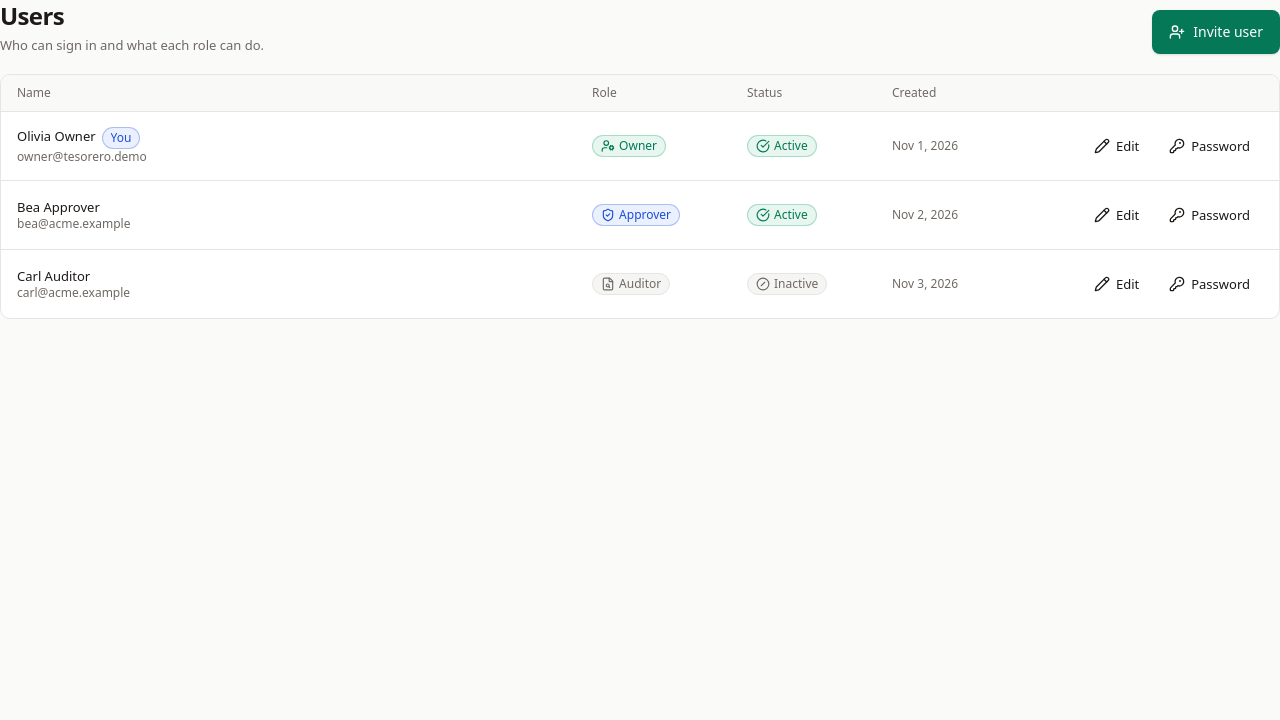
Test case: users admin › edits role and active state
Click the button with test id "edit-user-button" at (1117, 215), box [1081,193,1152,237]
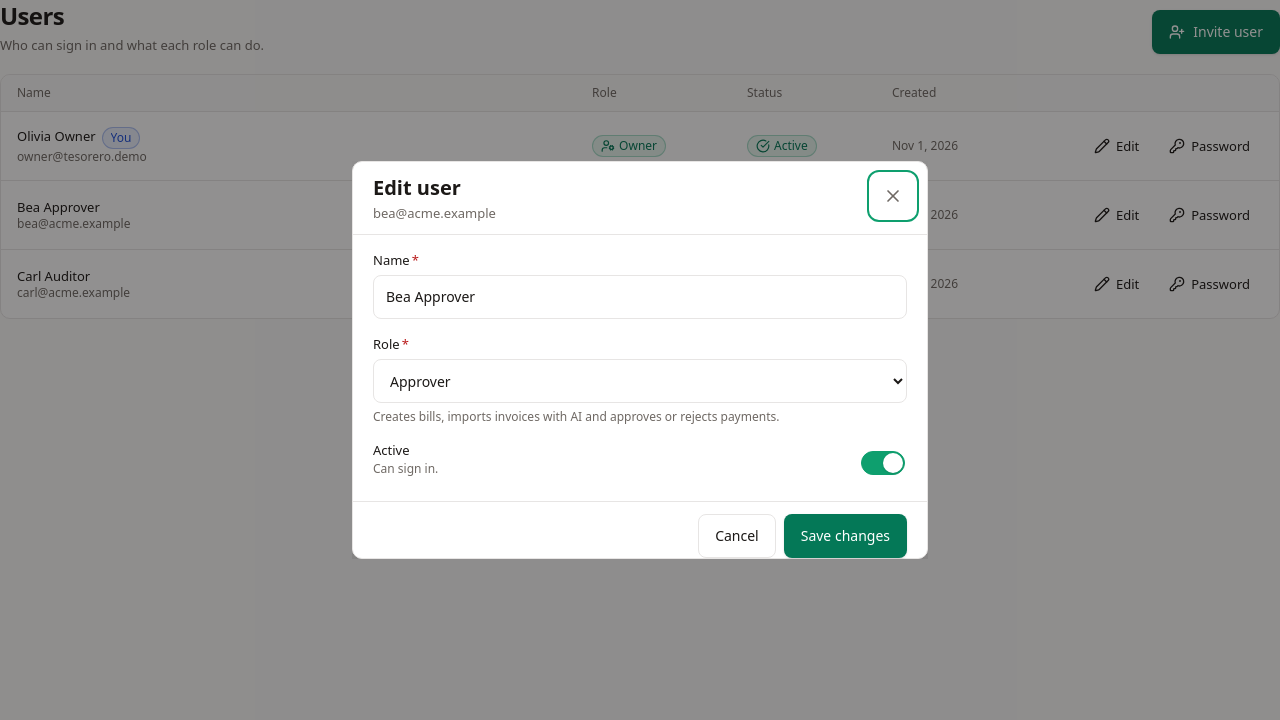
Select "Auditor" in the dropdown with test id "user-role-select" at (640, 381), box [373,359,907,403]
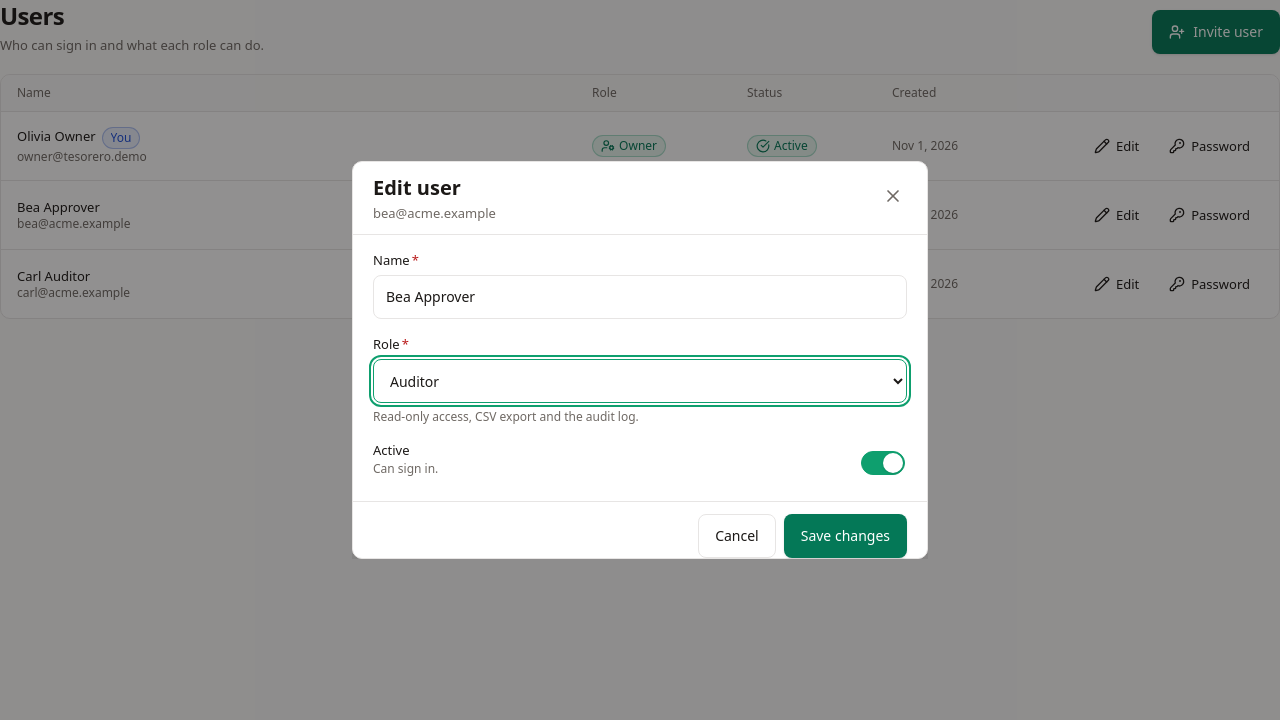
Click the switch with test id "user-active-toggle" at (391, 450), box [373,441,410,459]
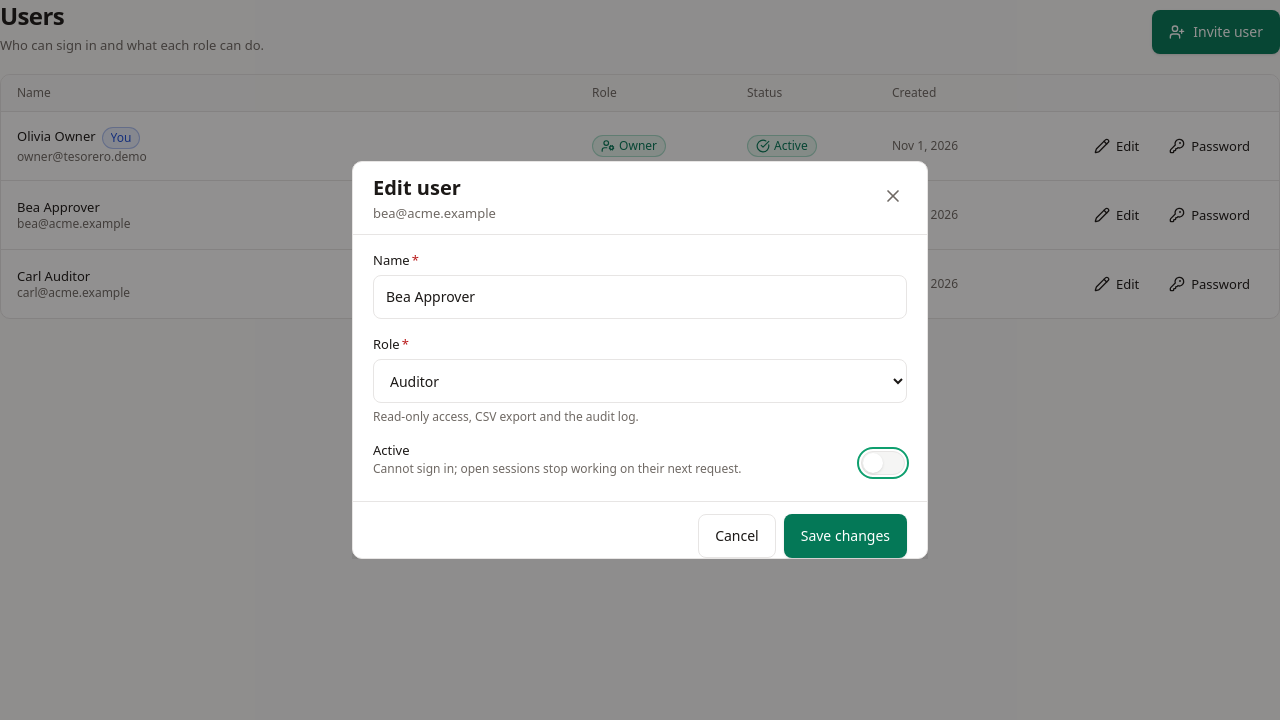
Click the button with test id "user-form-submit" at (845, 536), box [784,514,907,558]
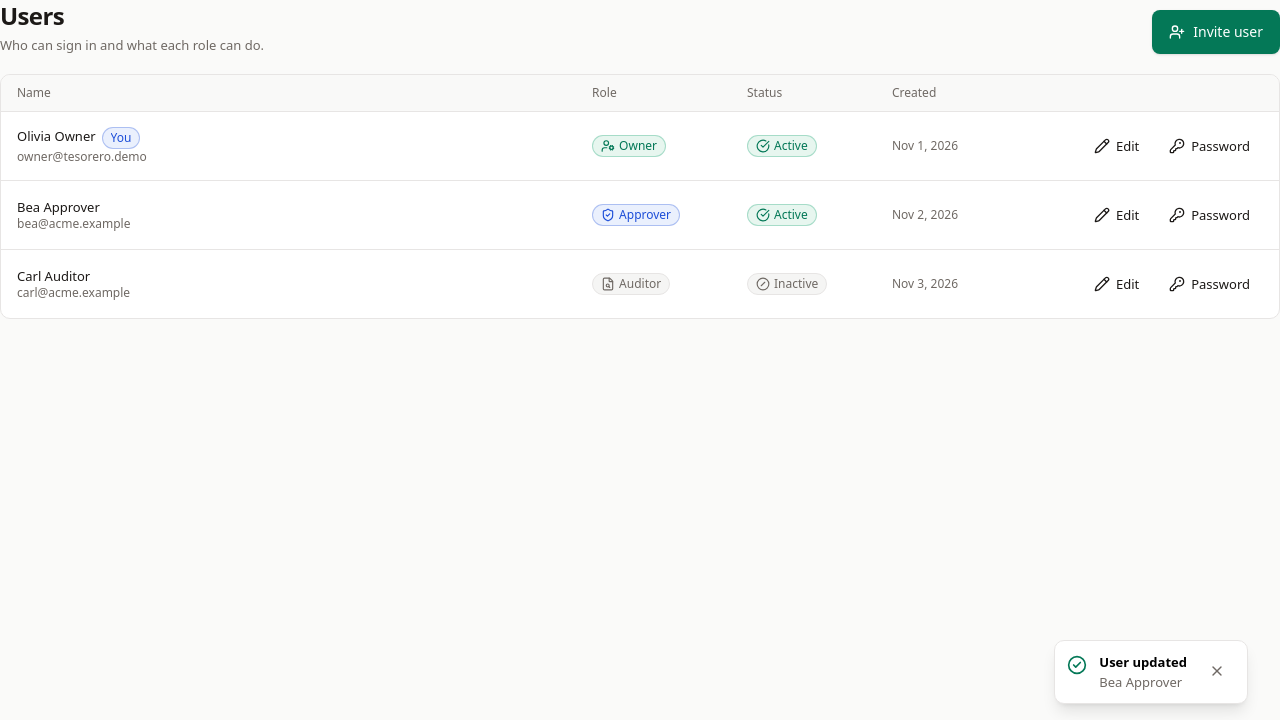
Now the dialog with test id "edit-user-dialog" is gone
